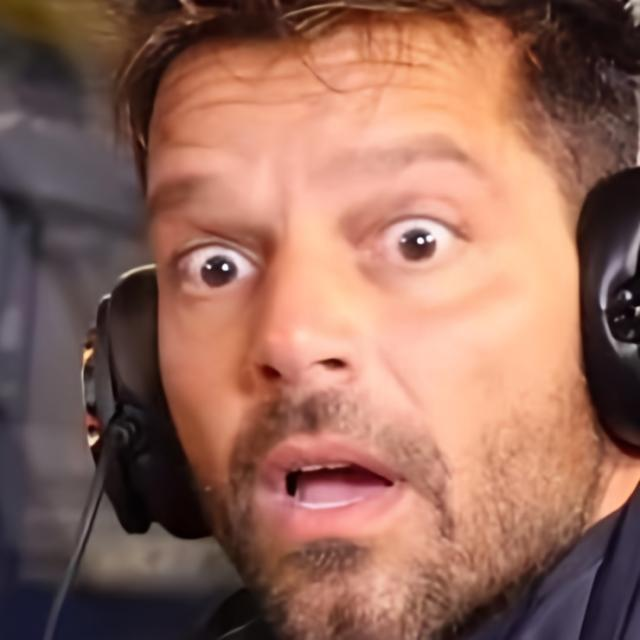fear: (142, 0, 578, 640)
